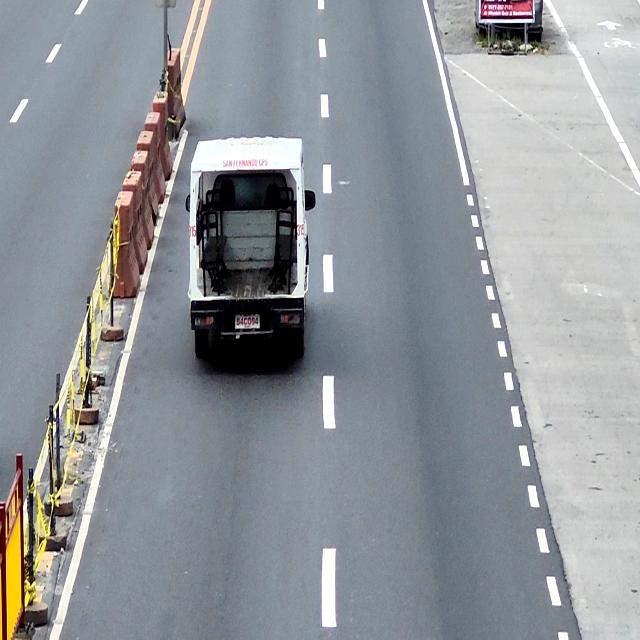Car: (187, 136, 316, 366)
License-Plate: (234, 315, 260, 329)
